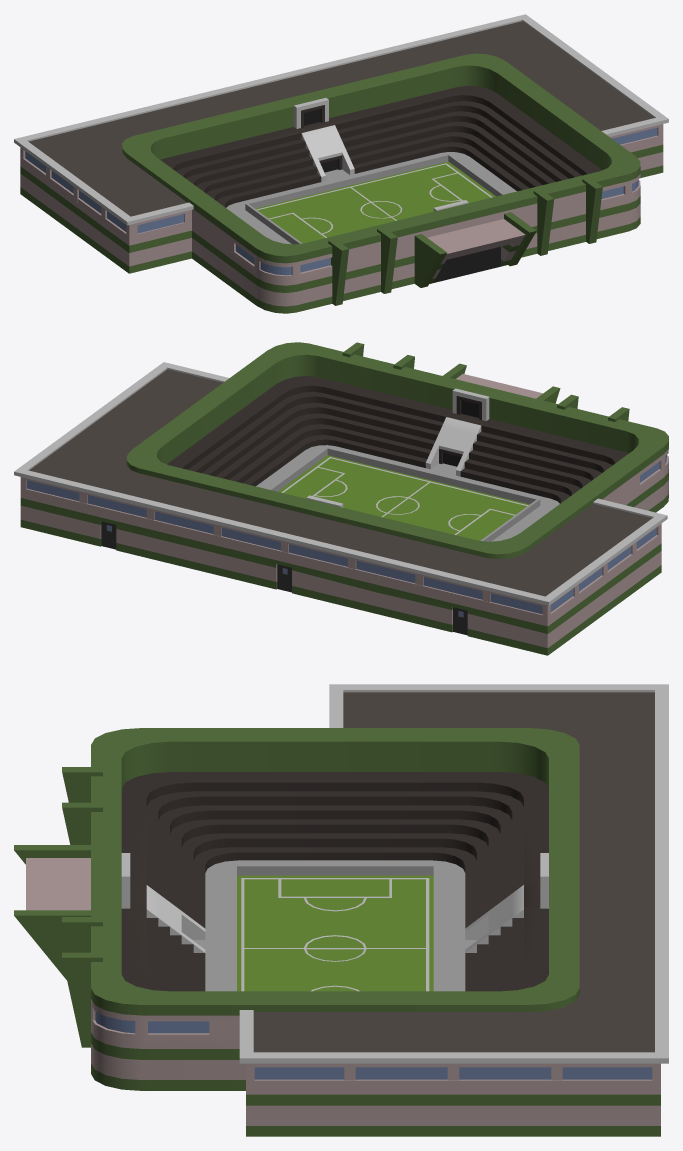
File: FootballStadium_01.fbx
3 views of the same model, one above another, from view 1: azimuth 30°, elevation 25°; view 2: azimuth 150°, elevation 25°; view 3: azimuth 270°, elevation 25° (orthographic). The views are drawn at different scales.
Parts seen in each view (by area): view 1: FootballStadium_01; view 2: FootballStadium_01; view 3: FootballStadium_01.
Boxes of the visible parts, x1=… form: FootballStadium_01: x1=14, y1=14, x2=668, y2=313; FootballStadium_01: x1=14, y1=342, x2=668, y2=655; FootballStadium_01: x1=14, y1=684, x2=668, y2=1136.
Bounding box in the file's own units: 74.66 × 8.38 × 55.24.
